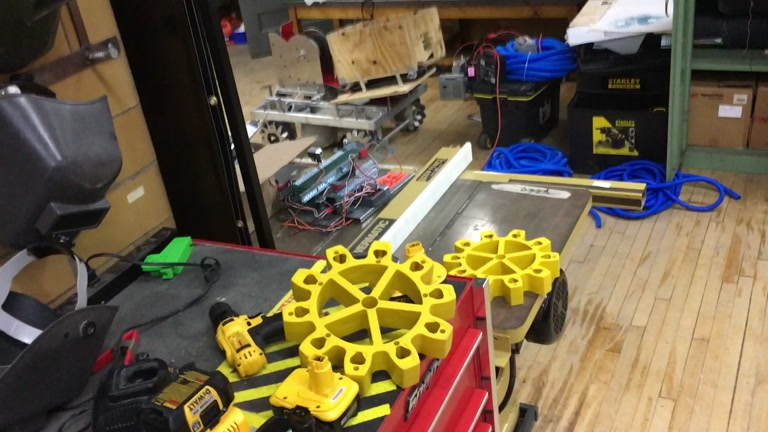gear: (282, 241, 458, 396), (443, 227, 561, 308)
